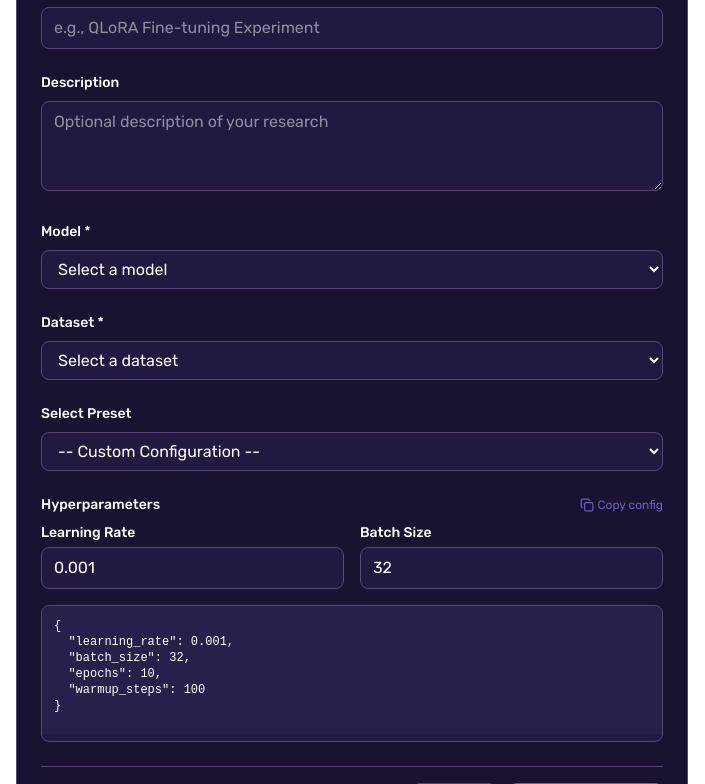
Scenario: ResearchProgramEditor › Form Validation › should validate batch size is positive integer
Replace the text in the number field labelled "Batch Size" with "0". click: (512, 568)
box: [360,547,663,589]
(page scrolled)
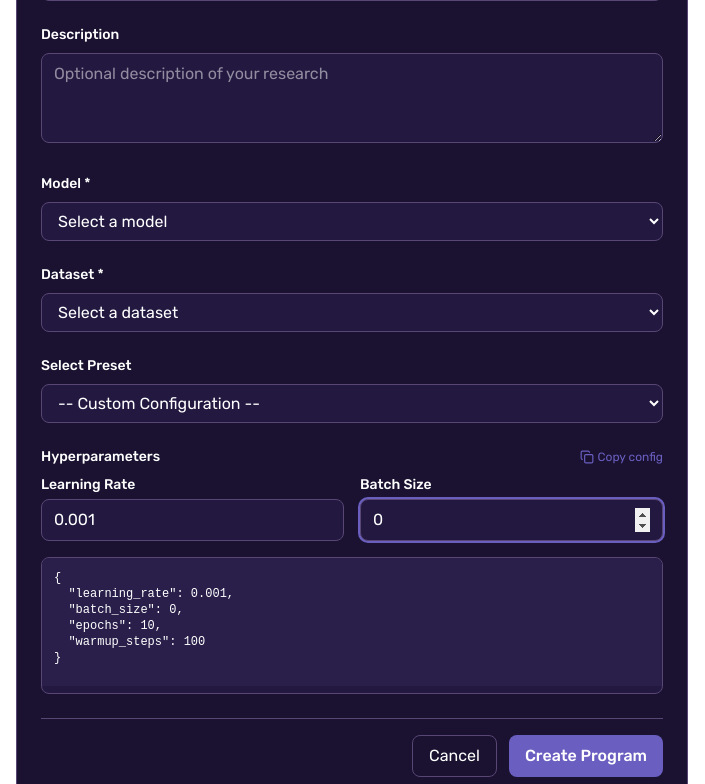
Click the button "Create Program". click: click(586, 756)
box: [509,735,663,777]
(page scrolled)
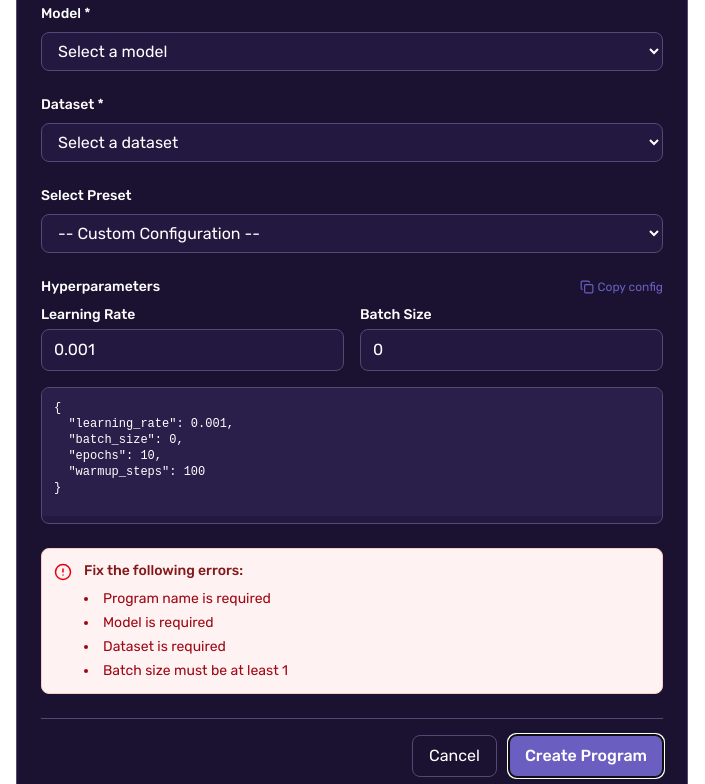
expect the list item "Batch size must be at least 1" is shown: met, box [84,661,288,681]
